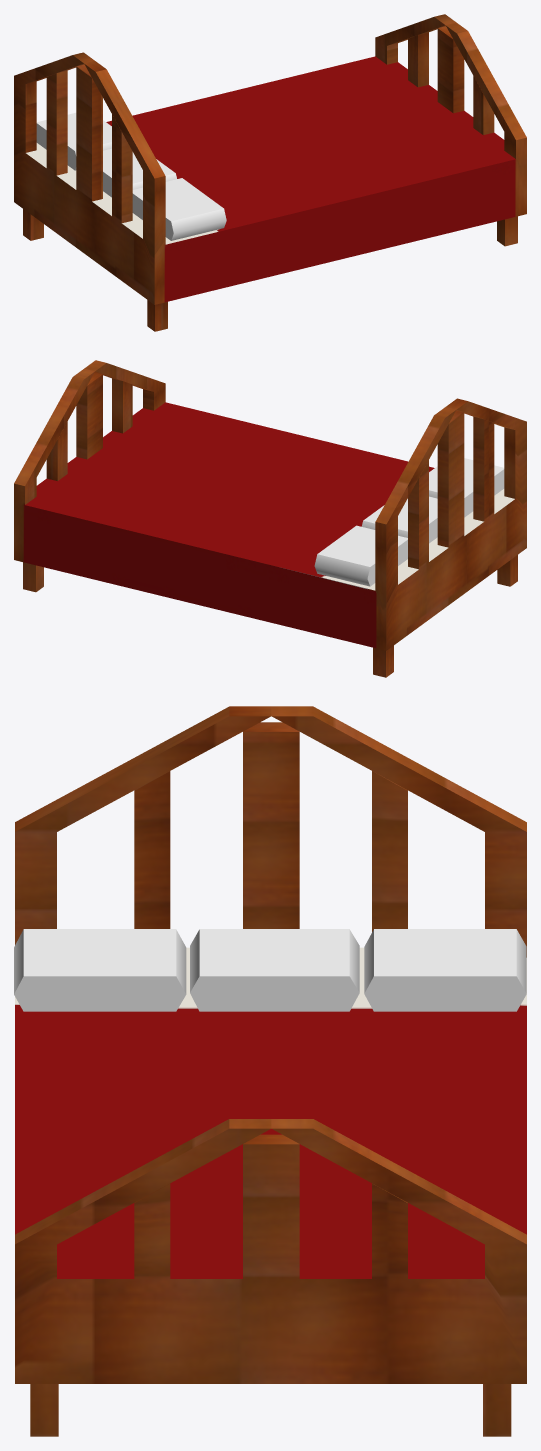
Rendered from bed.fbx.
3 views of the same model, one above another, from view 1: azimuth 30°, elevation 25°; view 2: azimuth 150°, elevation 25°; view 3: azimuth 270°, elevation 25° (orthographic). The views are drawn at different scales.
Visible parts, largest first — view 1: pCube1; view 2: pCube1; view 3: pCube1.
Boxes of the visible parts, x1=… form: pCube1: x1=14, y1=14, x2=526, y2=331; pCube1: x1=14, y1=360, x2=526, y2=677; pCube1: x1=14, y1=706, x2=526, y2=1436.
Size of the model in its own units: 3.63 by 2.06 by 2.37.
